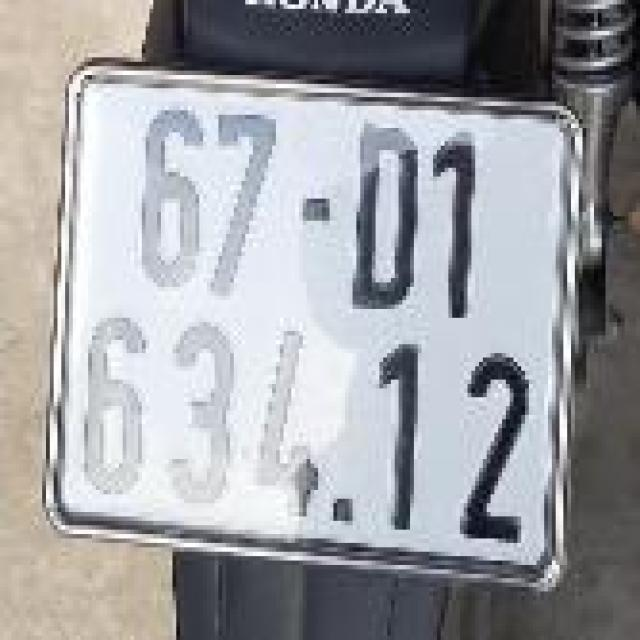1: (370, 322, 427, 539), (433, 115, 479, 322)
2: (446, 342, 534, 554)
3: (163, 305, 236, 525)
4: (241, 316, 326, 536)
6: (125, 93, 205, 287), (78, 309, 144, 499)
7: (209, 101, 282, 309)
D: (341, 112, 425, 316)
